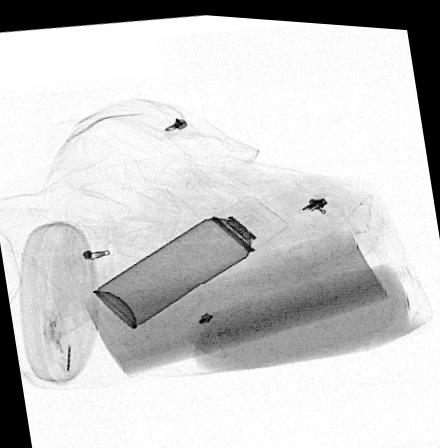Sprayer: (91, 187, 290, 328)
